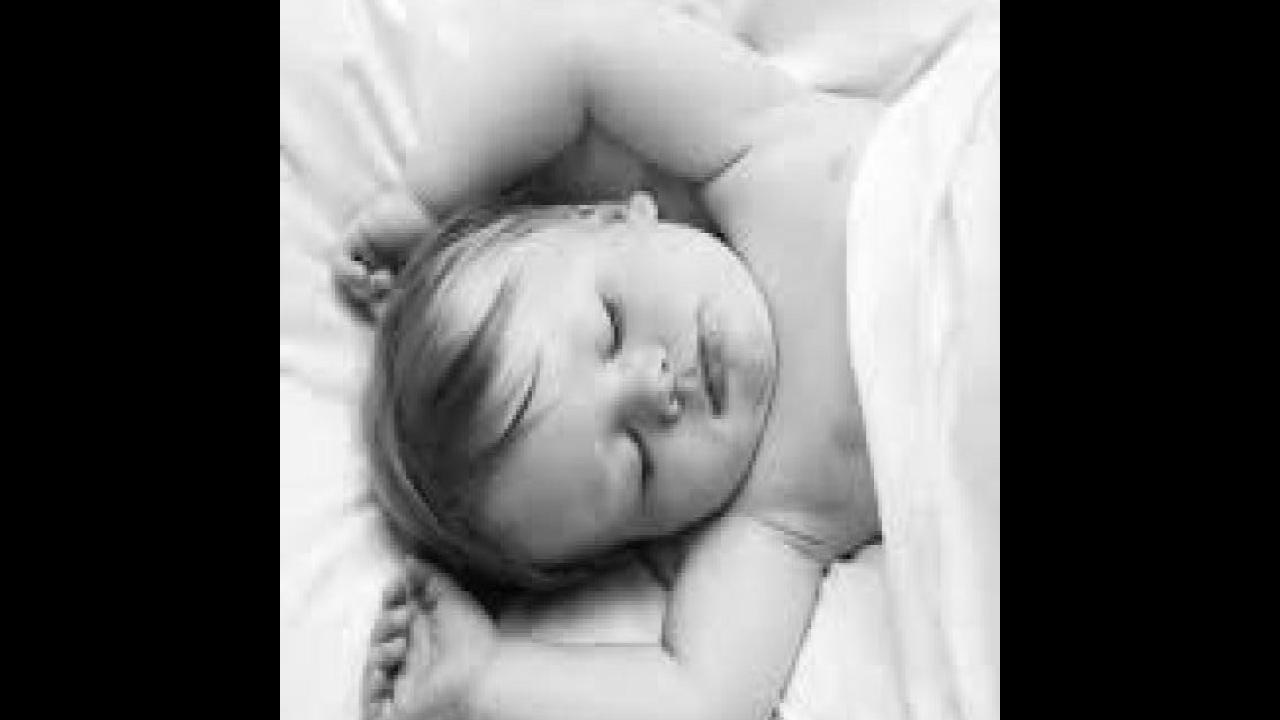hand: (359, 541, 487, 720), (325, 192, 437, 338)
